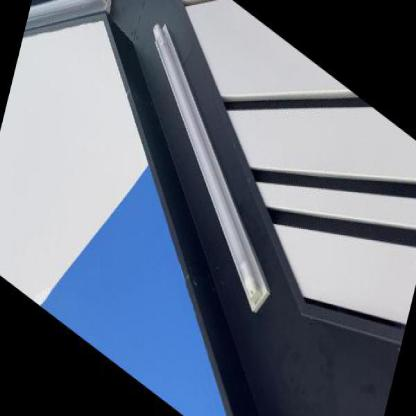light_off: (104, 0, 318, 335), (10, 0, 127, 143)
